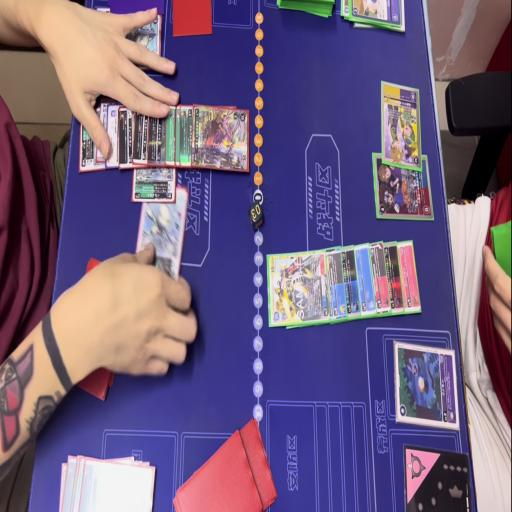card: (126, 189, 189, 296), (392, 339, 460, 435), (265, 245, 327, 333), (370, 150, 431, 231), (192, 104, 250, 178), (80, 454, 153, 512), (378, 79, 420, 174), (111, 5, 165, 70), (395, 239, 421, 317), (130, 160, 175, 204), (353, 243, 376, 325), (369, 237, 391, 319), (383, 240, 405, 321), (339, 240, 359, 326), (327, 248, 348, 328), (352, 0, 404, 31), (78, 109, 99, 180), (146, 104, 168, 168), (61, 454, 85, 512), (132, 102, 152, 170), (179, 106, 196, 168), (118, 103, 133, 168), (163, 104, 176, 166), (107, 102, 117, 176), (98, 100, 108, 164)
